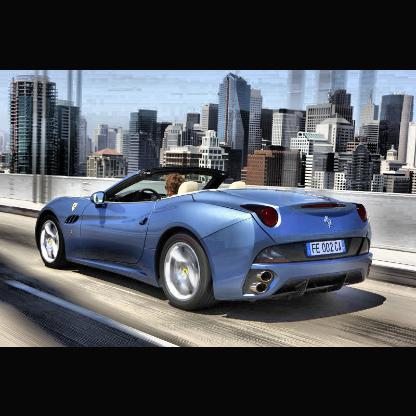Ferrari California Convertible 2012: (36, 166, 374, 313)
